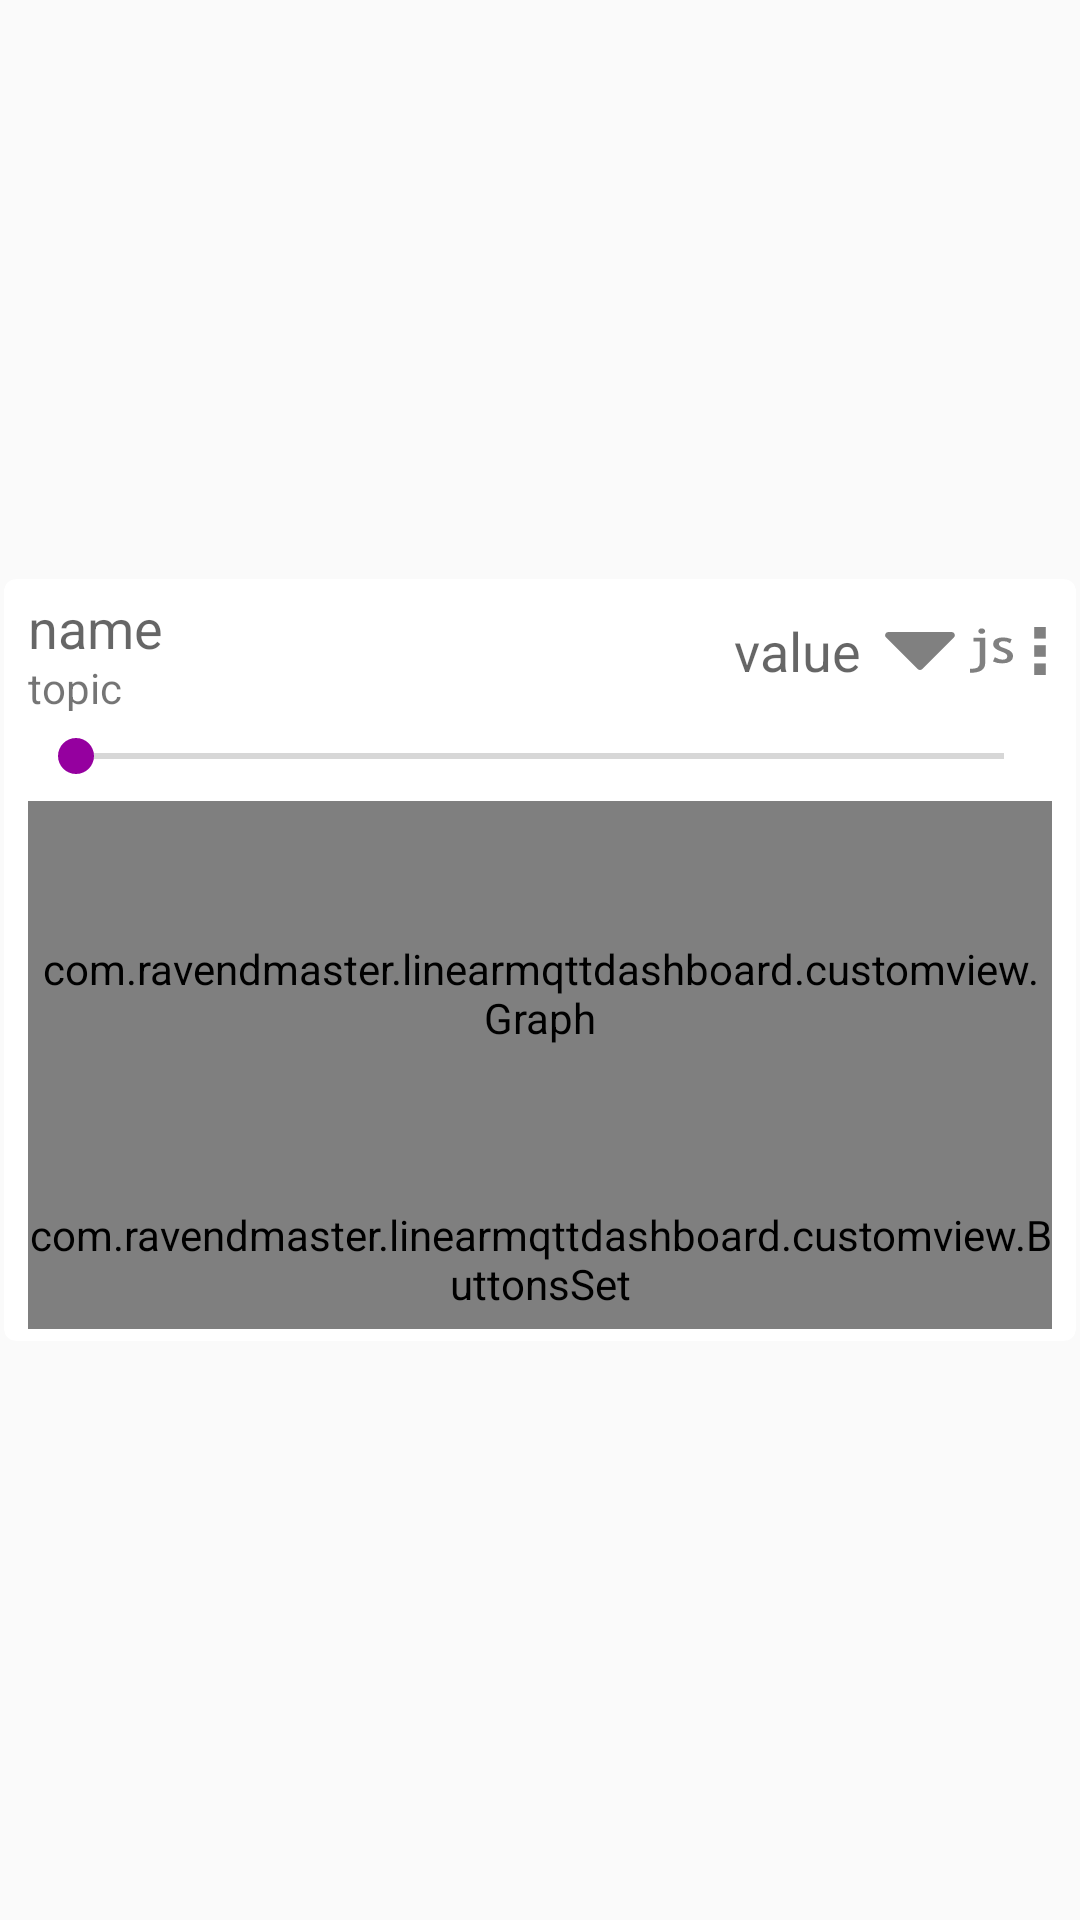

Icons on this 1080×1920 Android screen, each with the point to tap as (x,y):
combo box: (920,651)
context menu: (1040,651)
